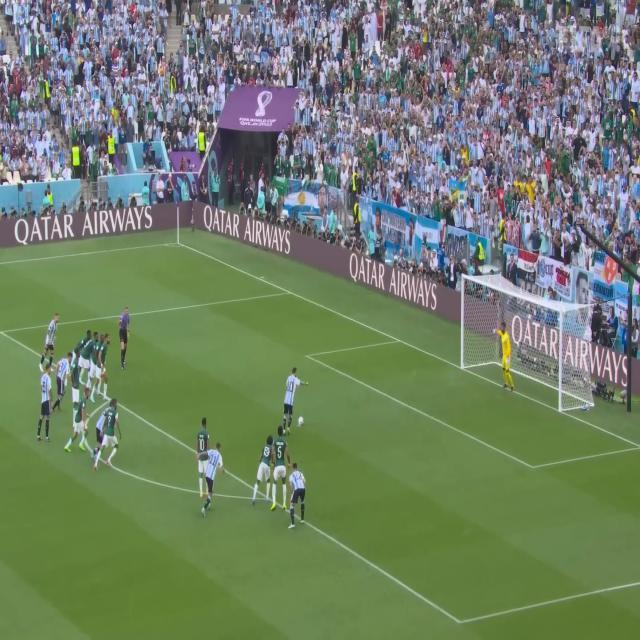football: (293, 400, 312, 437)
